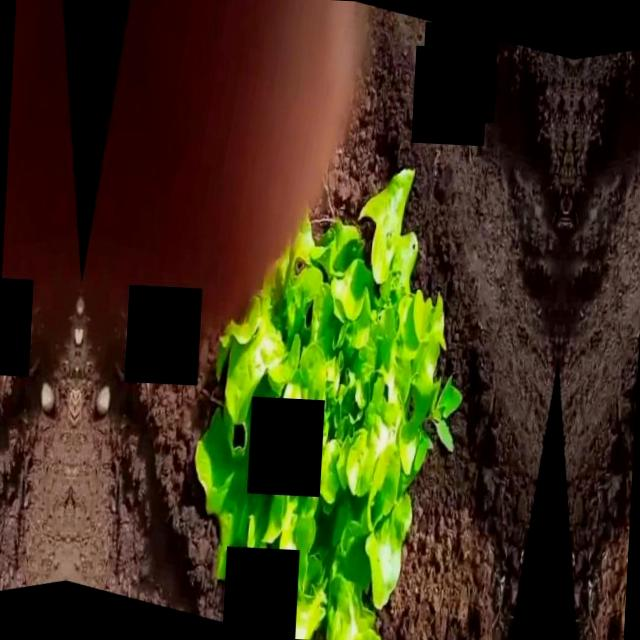healthy: (183, 158, 456, 640)
